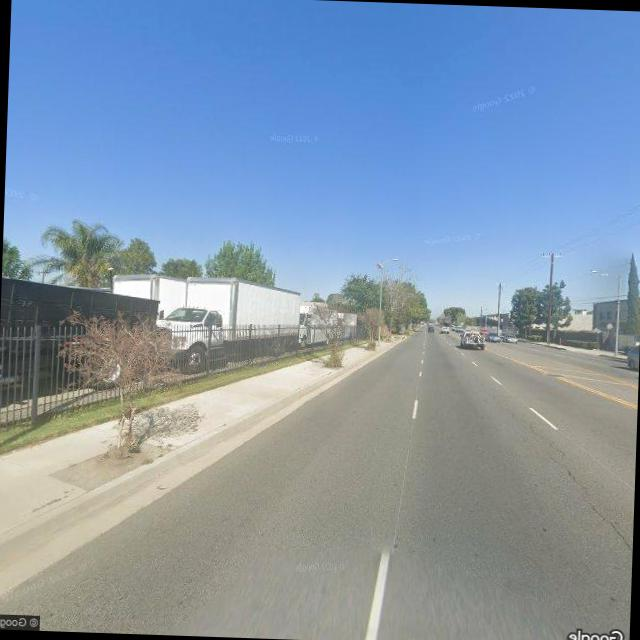pothole: (518, 408, 634, 542)
